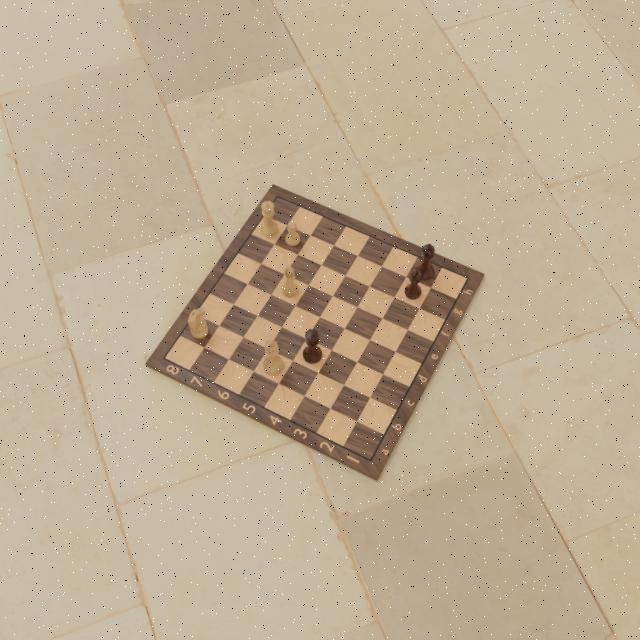black-bishop: (403, 266, 422, 301)
black-king: (417, 241, 435, 283)
black-queen: (303, 328, 321, 368)
white-bishop: (280, 264, 299, 299)
white-king: (262, 338, 285, 377)
white-knight: (186, 308, 209, 340)
white-pawn: (284, 220, 300, 248)
white-queen: (259, 200, 278, 239)
